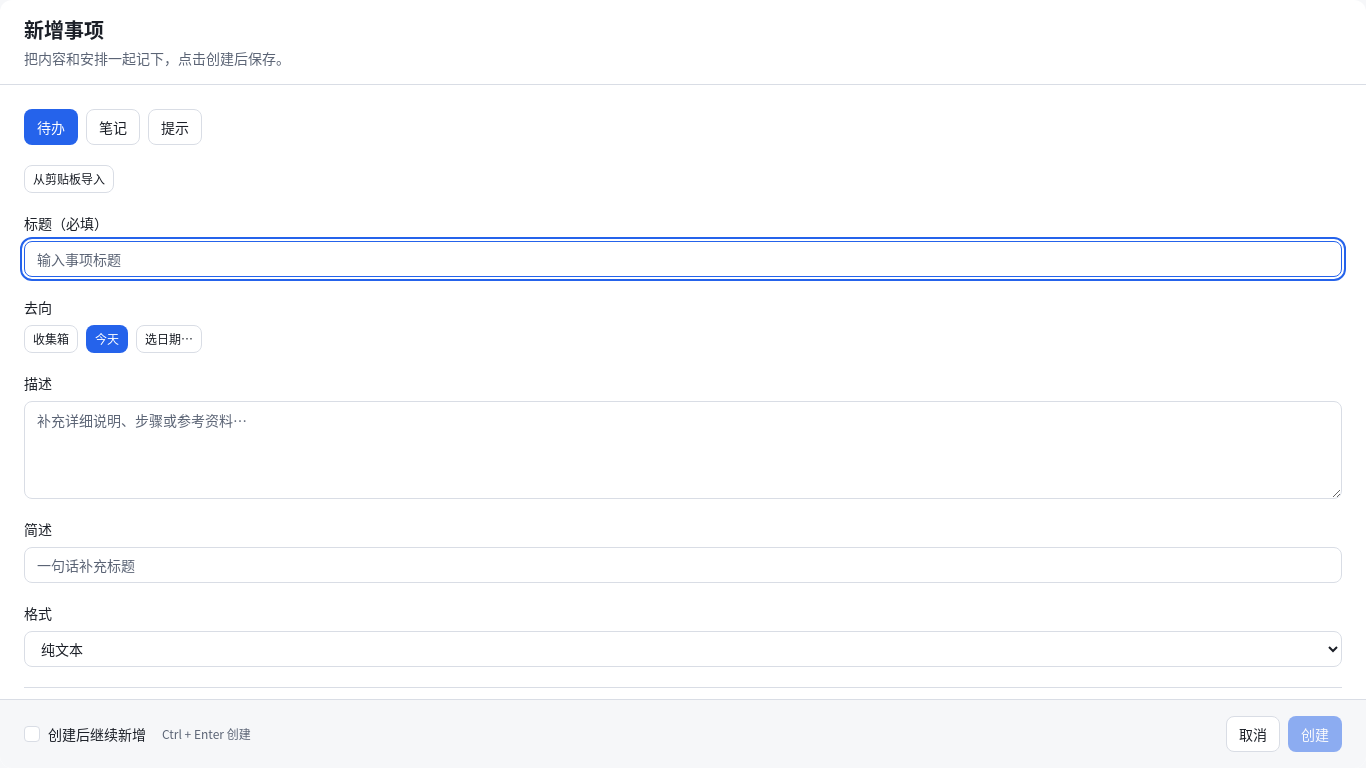
it: 完整新增配置 › 读取剪贴板后等待确认追加，保留原草稿及计划
The image size is (1366, 768).
In the field labelled "标题": (683, 259) [24,241,1342,277], type "原标题"
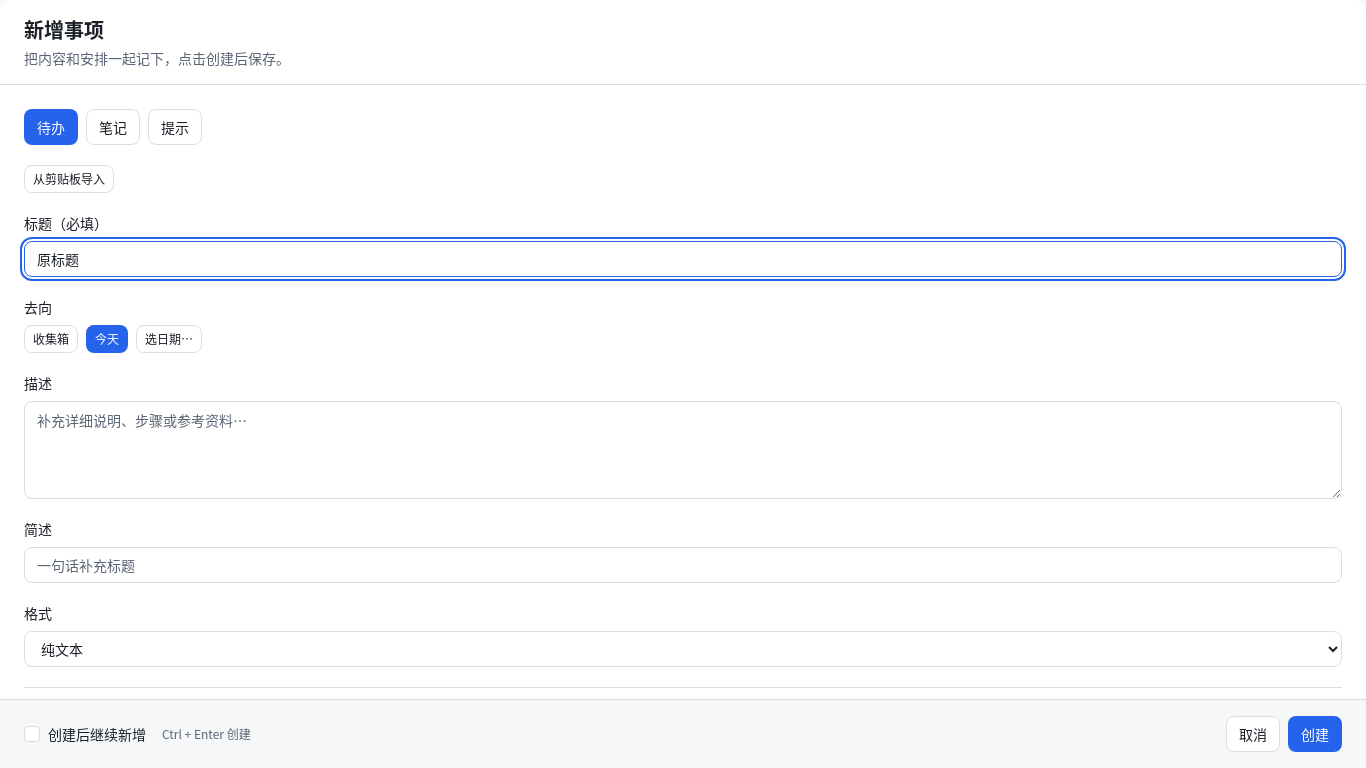
In the text box named "描述": (683, 450) [24,401,1342,499], type "原描述"
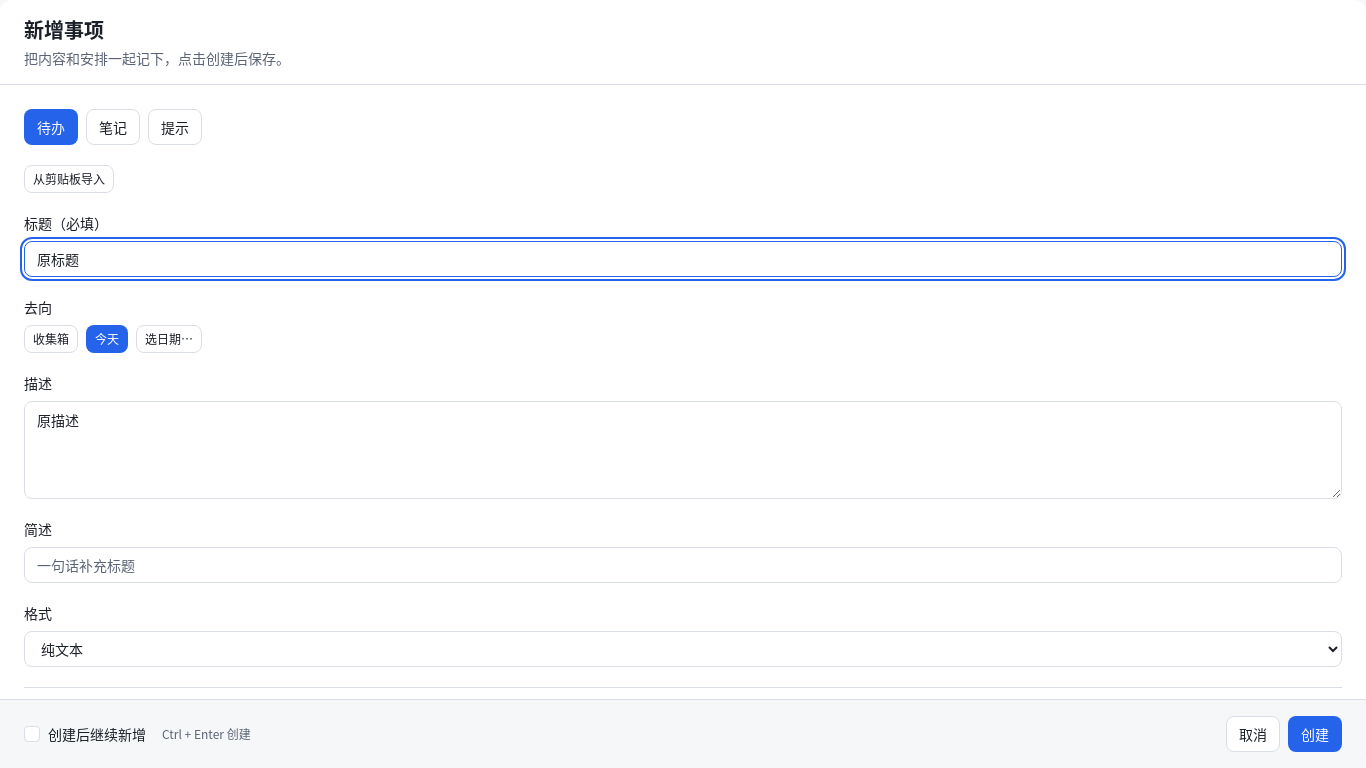
Click the button "从剪贴板导入": click(69, 179) [24,165,114,193]
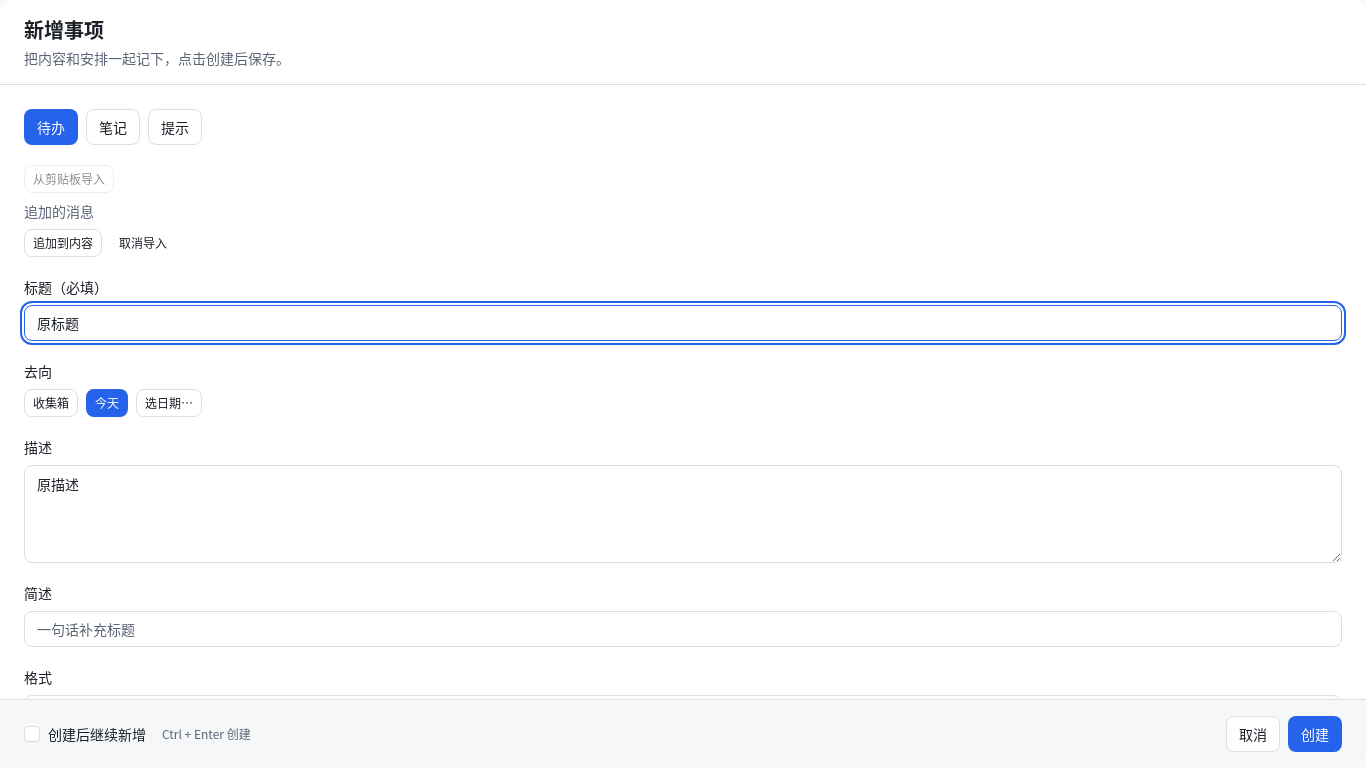
Click the button "追加到内容": click(63, 243) [24,229,102,257]
(page scrolled)
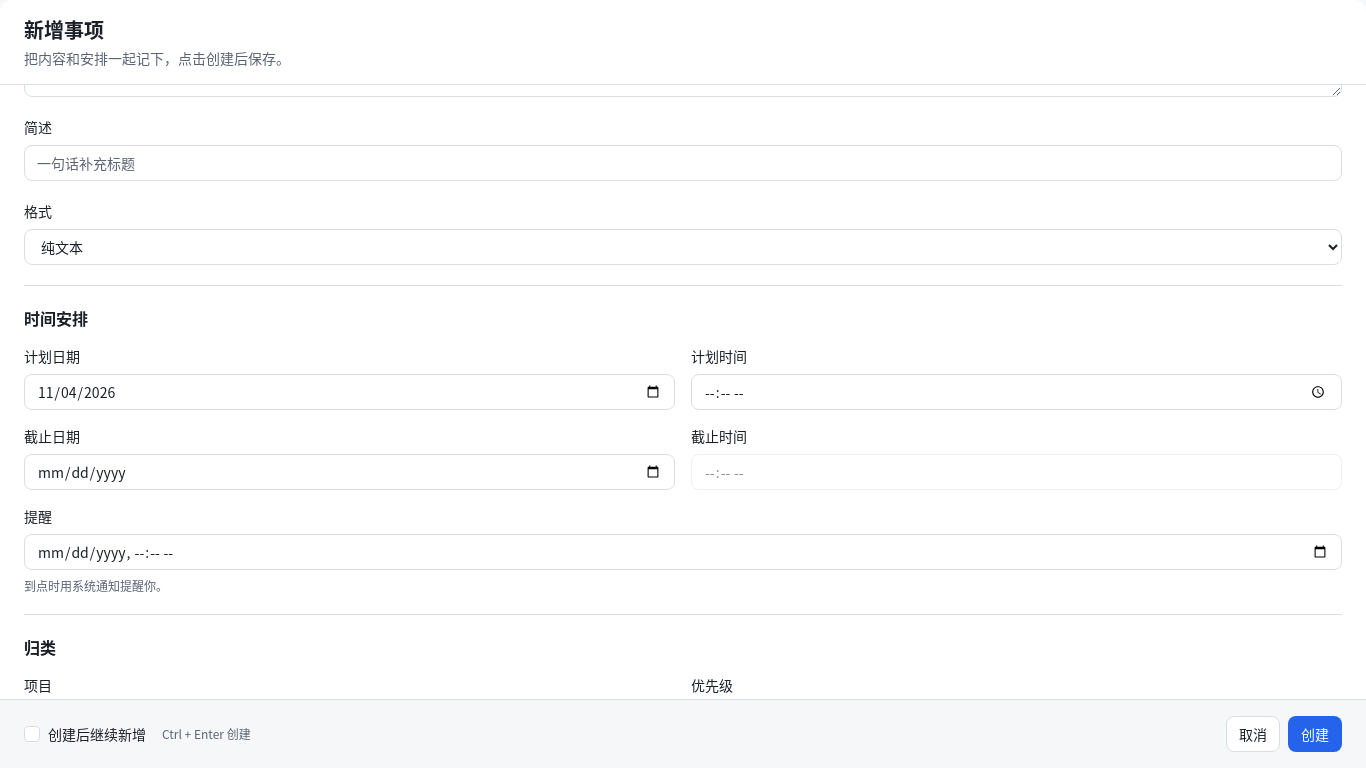
Expected: the date field named "计划日期（日）" holds "2026-11-04", [24,374,675,410]
